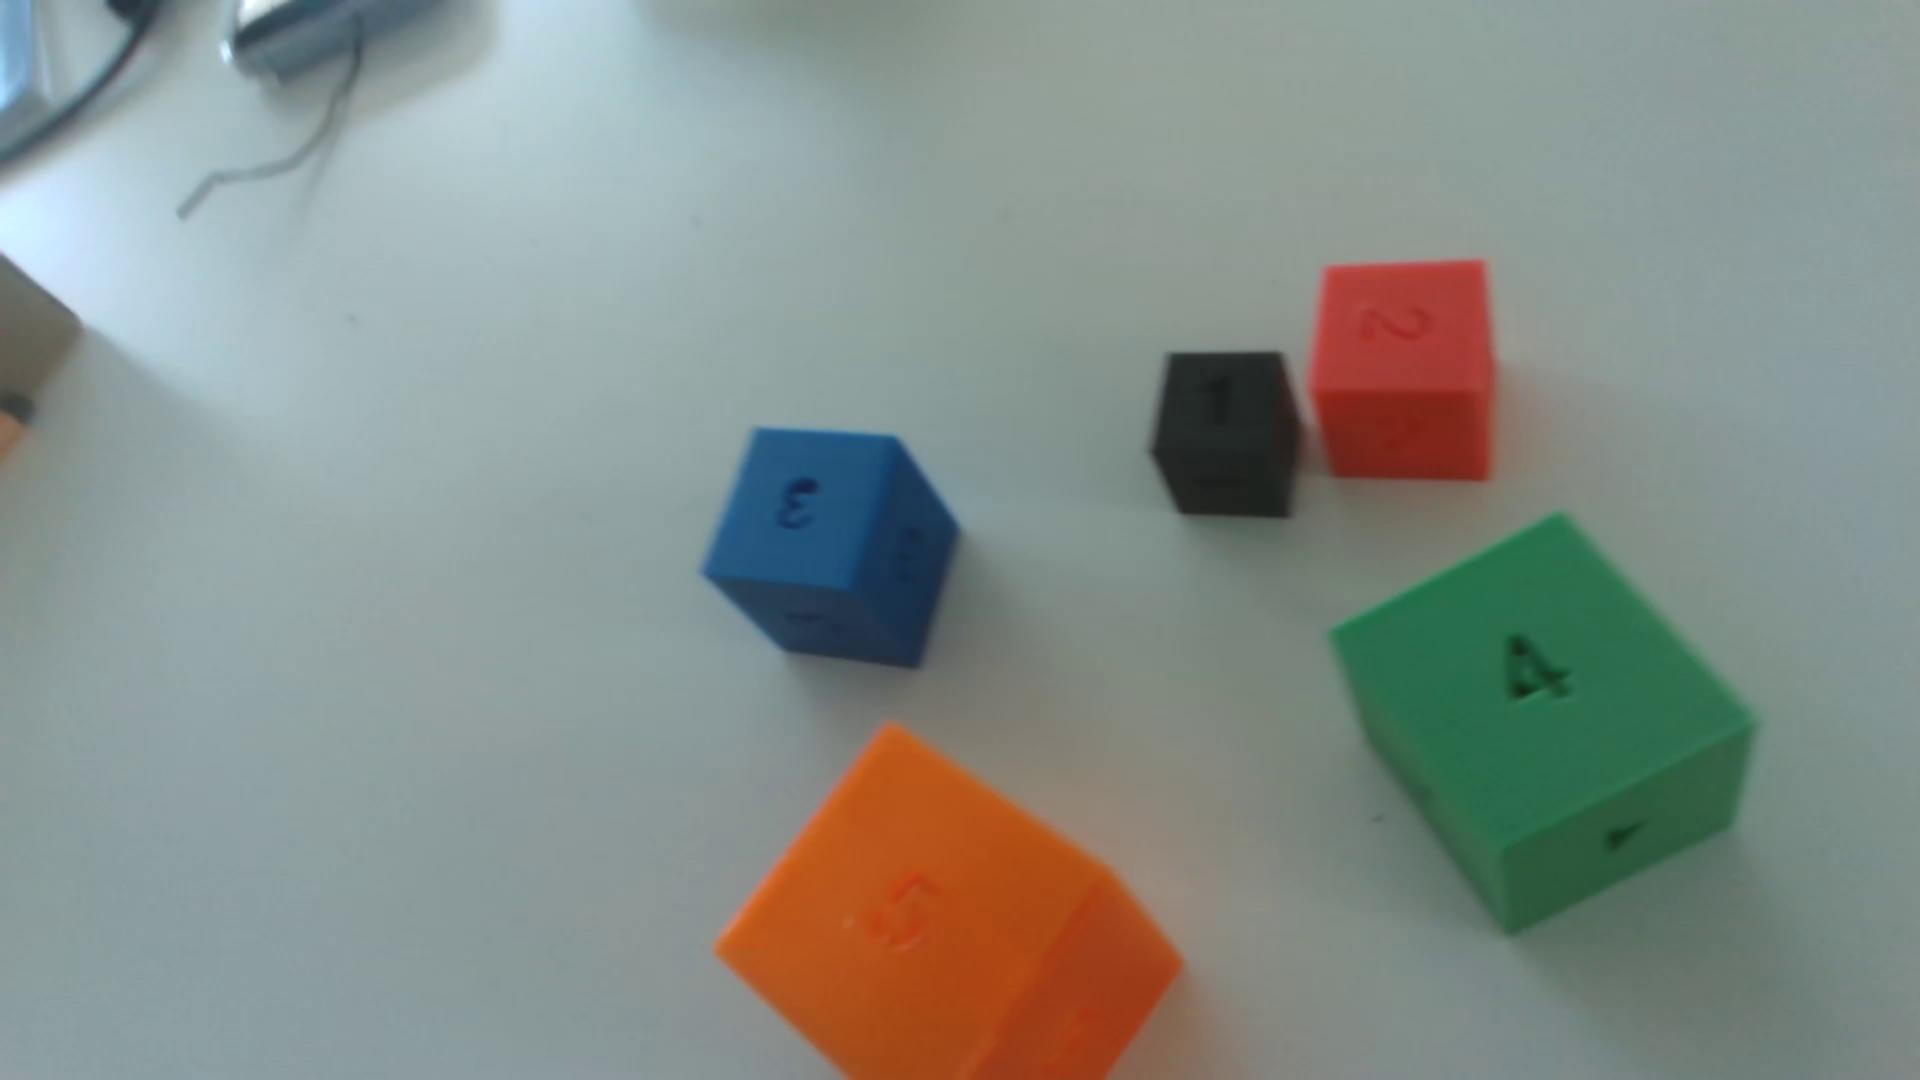black: (1149, 352, 1303, 520)
blue: (703, 429, 959, 669)
green: (1331, 516, 1755, 934)
orange: (717, 727, 1182, 1080)
red: (1307, 261, 1495, 483)
